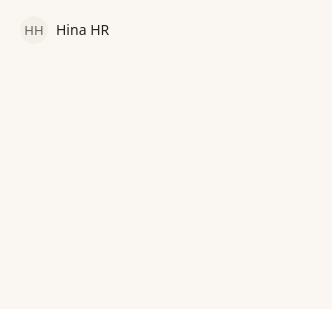
Scenario: ThemeProvider (§13 light and dark themes) › still offers Light, Dark and System in the user menu, and switching applies at once
The width and height of the screenshot is (332, 309).
Later steps or results of the test are not shown.
Click the button with aria-label "Account menu".
click(65, 30)  # box [12, 12, 117, 48]
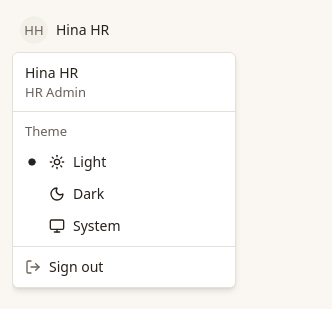
Now the menu item "System" is shown, box [49, 216, 121, 235]
